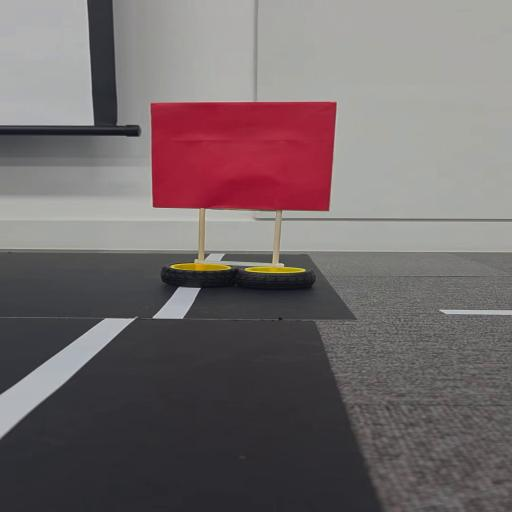Sign_A: (144, 98, 344, 294)
